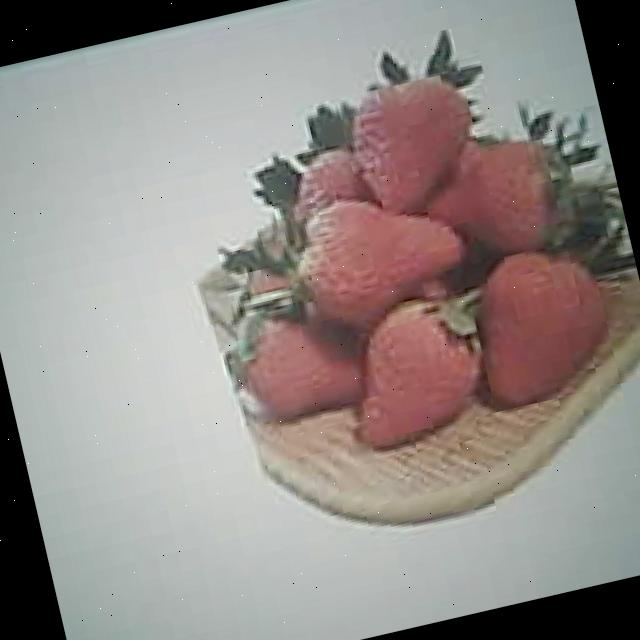strawberry: (462, 237, 620, 408), (284, 182, 469, 326), (336, 288, 496, 447), (342, 64, 486, 214)
